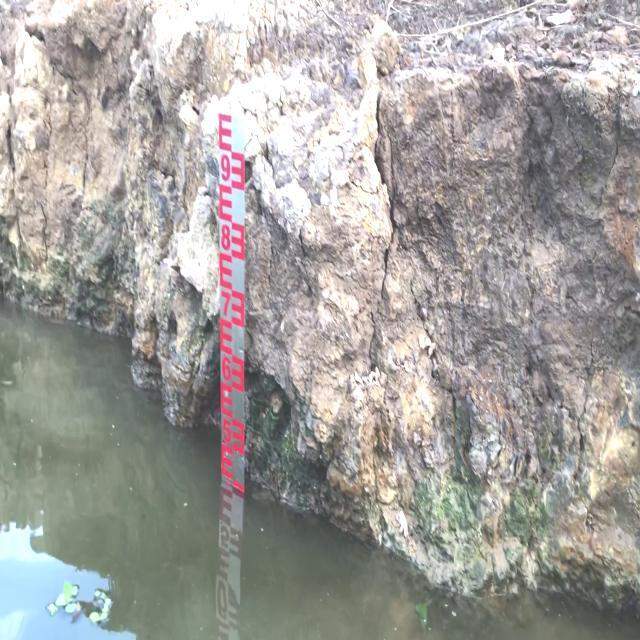ruler: (209, 109, 263, 489)
value: (217, 150, 232, 186), (218, 221, 232, 253), (218, 352, 232, 384), (218, 289, 232, 321), (220, 412, 232, 444)
